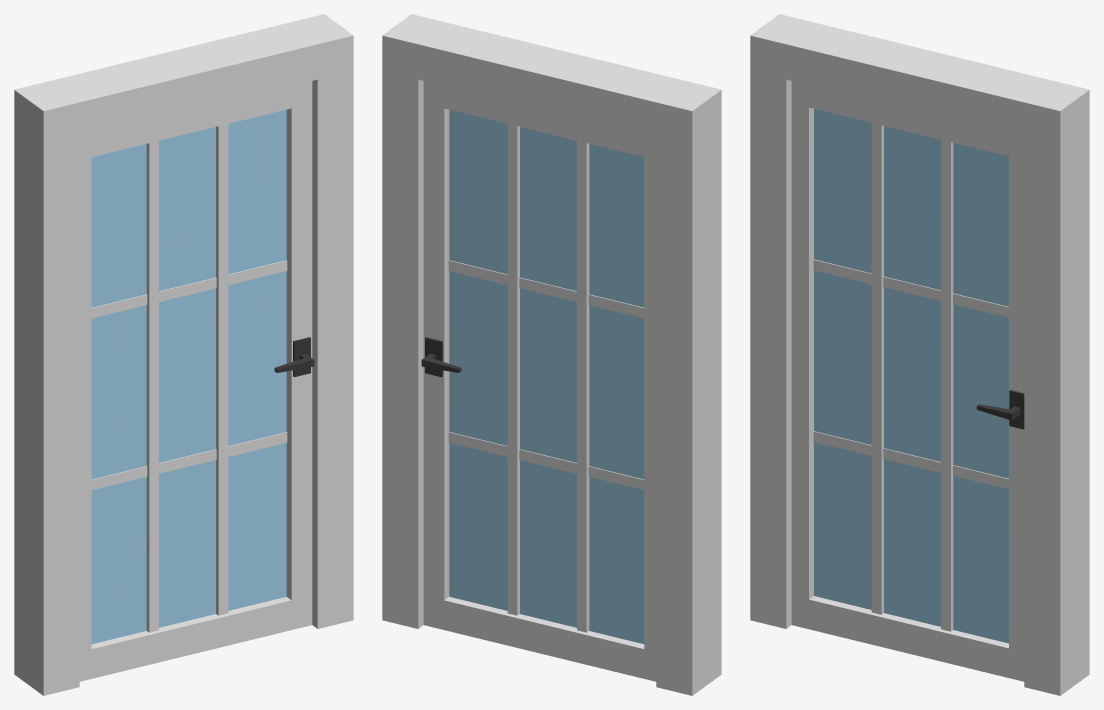
Rendered from door_2.0.glb.
3 views of the same model, side by side, from view 1: azimuth 30°, elevation 25°; view 2: azimuth 150°, elevation 25°; view 3: azimuth 330°, elevation 25° (orthographic).
Visible parts, largest first — view 1: door_001, door_frame_001; view 2: door_001, door_frame_001; view 3: door_001, door_frame_001.
Boxes of the visible parts, box(x1,y1,x2,y2) form: door_001: box(79, 81, 314, 681); door_frame_001: box(14, 14, 353, 695); door_001: box(421, 81, 656, 681); door_frame_001: box(382, 14, 721, 695); door_001: box(791, 81, 1024, 681); door_frame_001: box(750, 14, 1089, 695).
Size of the model in its own units: 1.34 by 2.41 by 0.2859.
1 material, 1 textured.
